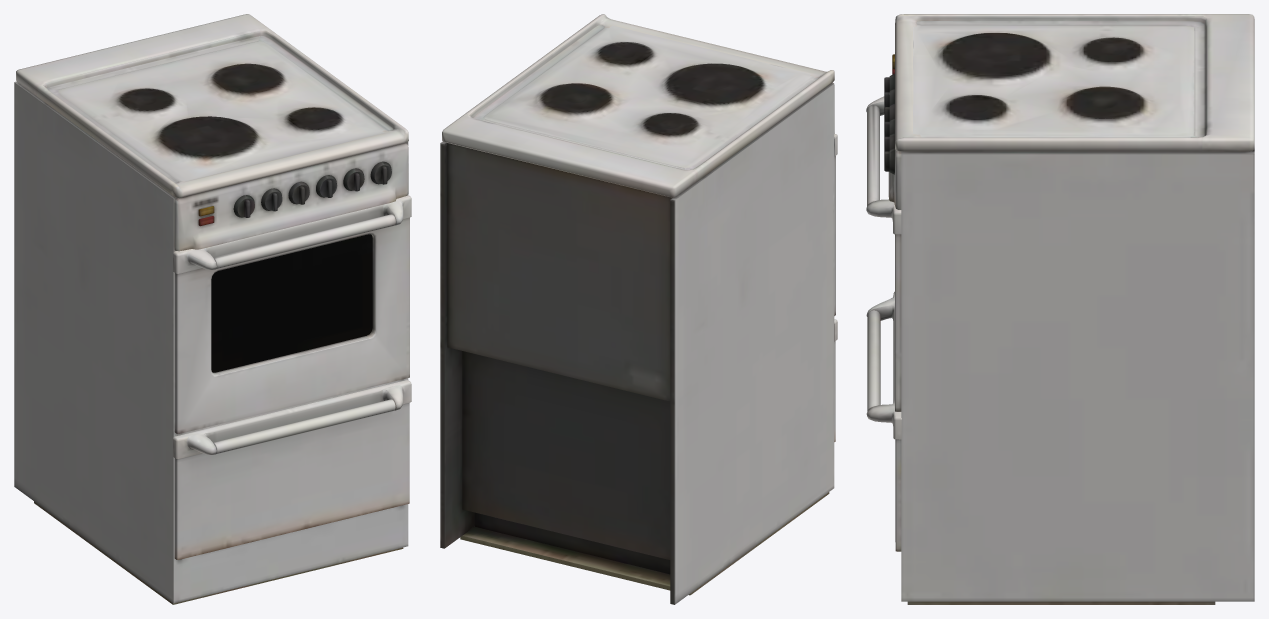
The model's file is electric_stove.glb.
3 renders of one model, left to right at view 1: azimuth 30°, elevation 25°; view 2: azimuth 150°, elevation 25°; view 3: azimuth 270°, elevation 25°, orthographic. The views are drawn at different scales.
Parts seen in each view (by area): view 1: stovetop, door_top; view 2: stovetop; view 3: stovetop.
Boxes of the visible parts, bbox=[...] form: stovetop: bbox=[14, 14, 411, 604]; door_top: bbox=[211, 234, 372, 372]; stovetop: bbox=[440, 14, 837, 604]; stovetop: bbox=[866, 14, 1254, 604].
Bounding box in the file's own units: 0.5026 × 0.8586 × 0.6476.
Materials: 2 (2 with a texture image).
